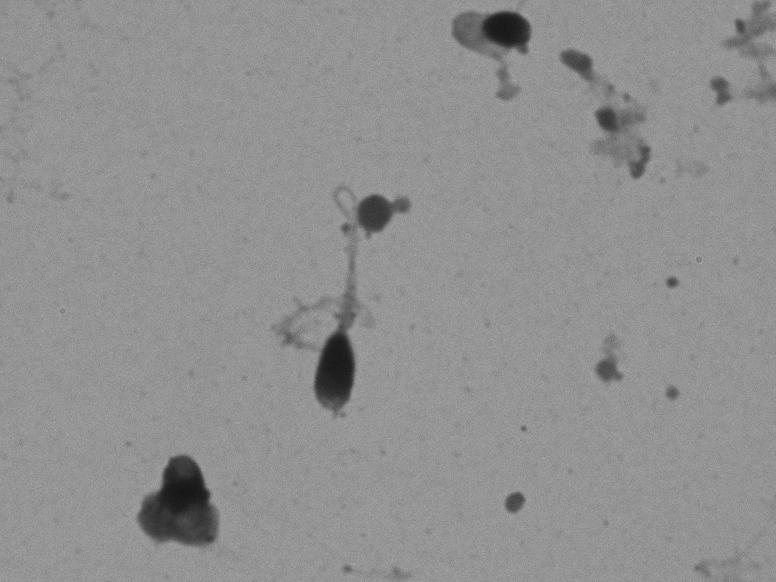Abnormal: (244, 158, 370, 442), (404, 1, 557, 121)
